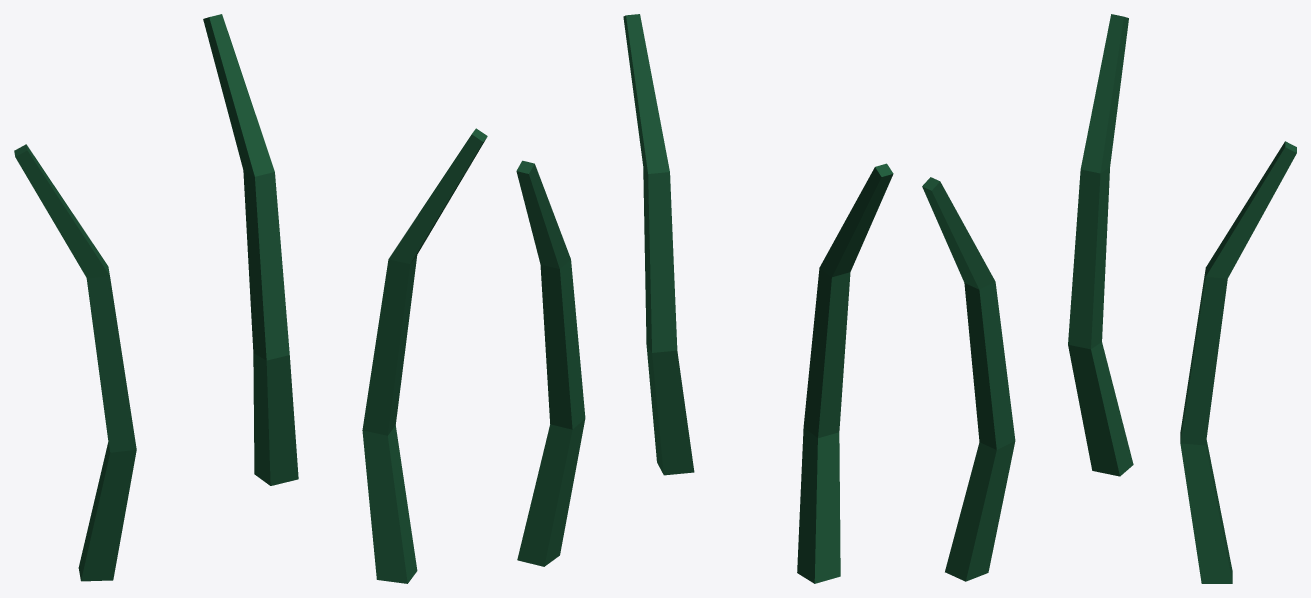
The model's file is Grass.fbx.
3 views of the same model, side by side, from view 1: azimuth 30°, elevation 25°; view 2: azimuth 150°, elevation 25°; view 3: azimuth 270°, elevation 25° (orthographic). The views are drawn at different scales.
Visible parts, largest first — view 1: Cube.006; view 2: Cube.006; view 3: Cube.006.
Boxes of the visible parts, left/top/right/bottom form: Cube.006: left=14, top=14, right=487, bottom=583; Cube.006: left=516, top=14, right=893, bottom=583; Cube.006: left=922, top=14, right=1296, bottom=583.
Bounding box in the file's own units: 157 × 176 × 142.
